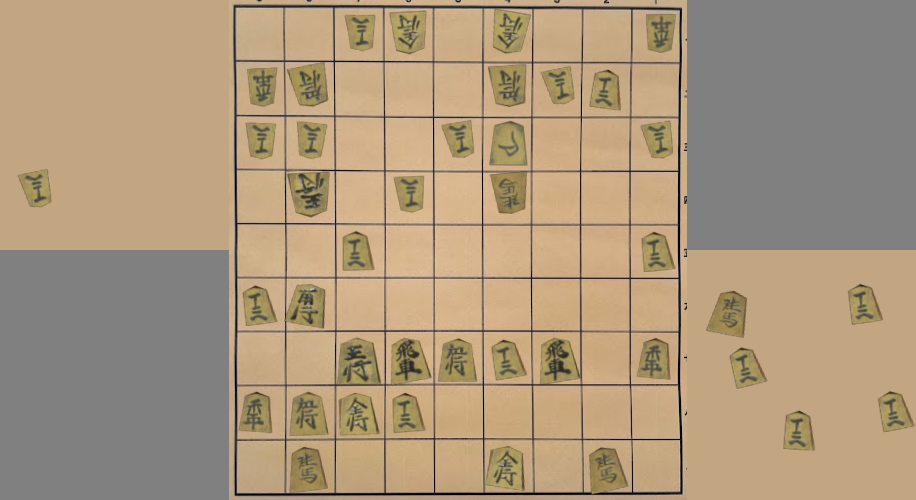A: (339, 339, 379, 383), (391, 338, 430, 383), (589, 448, 627, 493), (541, 339, 579, 383), (287, 285, 325, 328), (290, 393, 328, 436), (290, 448, 327, 492), (490, 122, 526, 166), (340, 394, 378, 435), (487, 447, 523, 490), (440, 340, 476, 382), (492, 340, 526, 380), (243, 286, 276, 326), (641, 233, 673, 272), (393, 394, 424, 433), (638, 340, 669, 379), (241, 393, 271, 433), (343, 232, 373, 271), (590, 71, 620, 110)
B: (288, 173, 329, 217), (289, 64, 327, 106), (489, 65, 526, 106), (390, 12, 425, 54), (494, 11, 529, 53), (491, 173, 525, 214), (542, 67, 574, 104), (442, 121, 473, 158), (642, 122, 673, 158), (248, 68, 277, 106), (297, 122, 326, 159), (647, 14, 675, 52), (345, 16, 375, 51), (246, 123, 275, 159), (394, 176, 423, 212)
C: (708, 292, 746, 337), (731, 348, 765, 388), (879, 392, 913, 432), (849, 285, 882, 324), (784, 411, 814, 450)
D: (19, 170, 51, 207)
